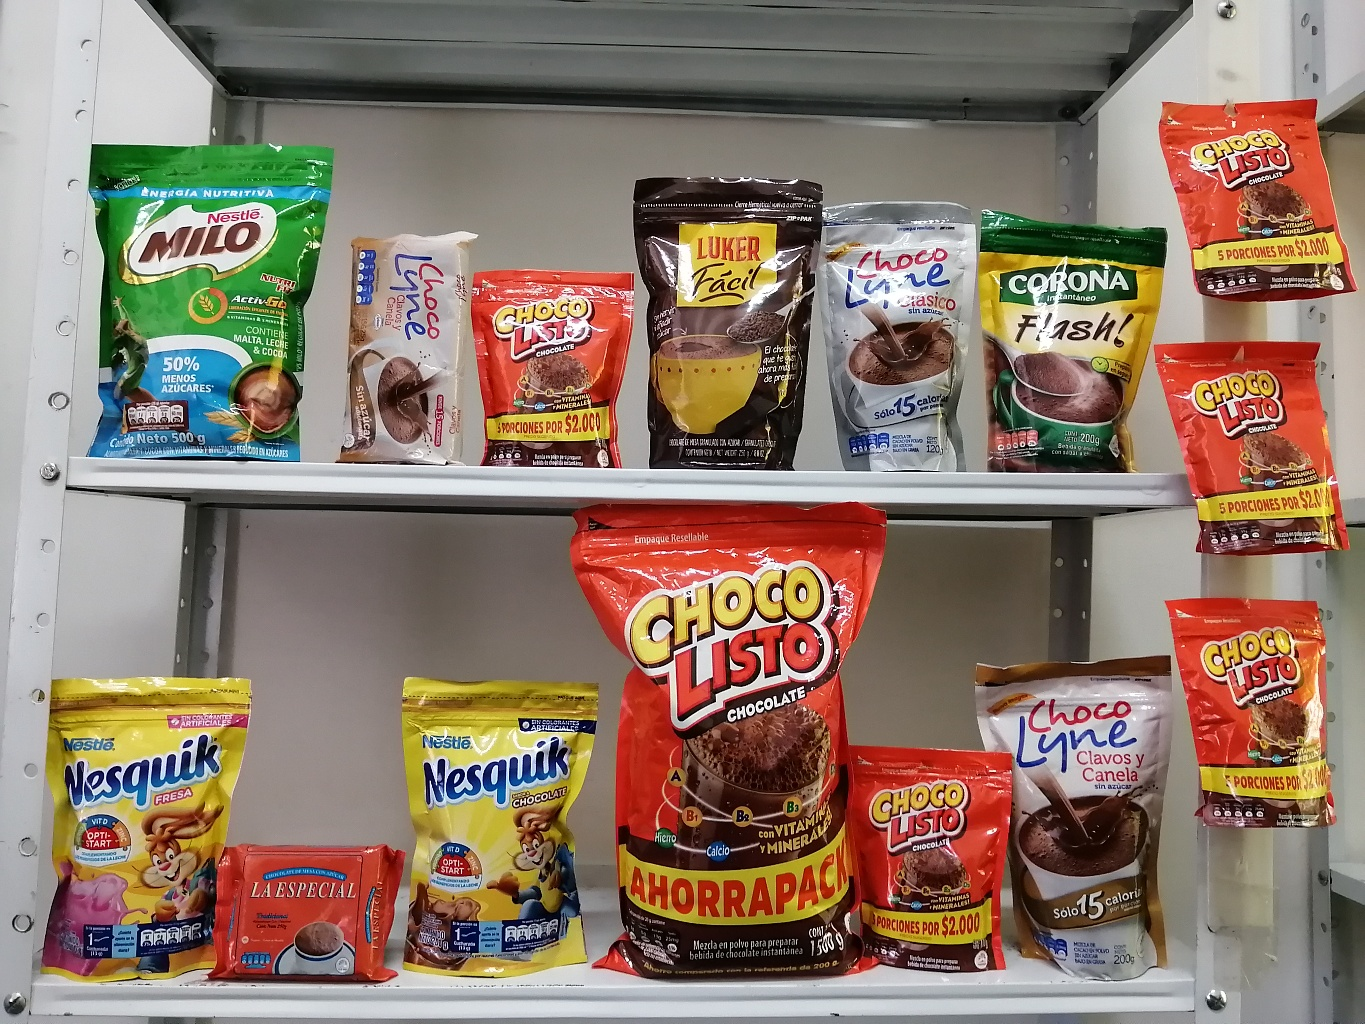COL0170103DYP1,500: (569, 501, 906, 991)
COL0170205DYP50000: (85, 134, 333, 460)
COL0170303DYP20000: (396, 665, 593, 981)
COL0170305DYP20000: (38, 667, 254, 981)
